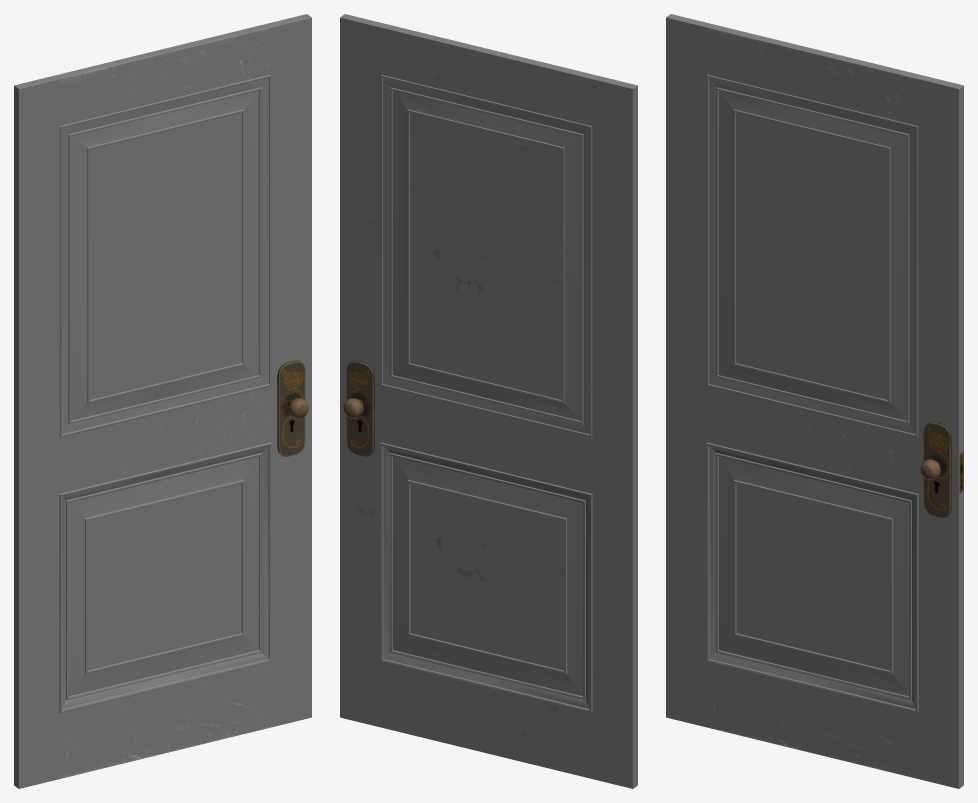
File: doorforyoussef.fbx
3 views of the same model, side by side, from view 1: azimuth 30°, elevation 25°; view 2: azimuth 150°, elevation 25°; view 3: azimuth 330°, elevation 25° (orthographic).
Visible parts, largest first — view 1: Plane, Plane.001; view 2: Plane, Plane.001; view 3: Plane, Plane.001.
Part boxes in pixels (box(x1,y1,x2,y2)): Plane: box(14, 14, 311, 788); Plane.001: box(277, 360, 308, 456); Plane: box(340, 14, 637, 788); Plane.001: box(343, 360, 374, 456); Plane: box(666, 14, 963, 788); Plane.001: box(920, 421, 951, 517).
Bounding box in the file's own units: 168 × 383 × 28.23.
